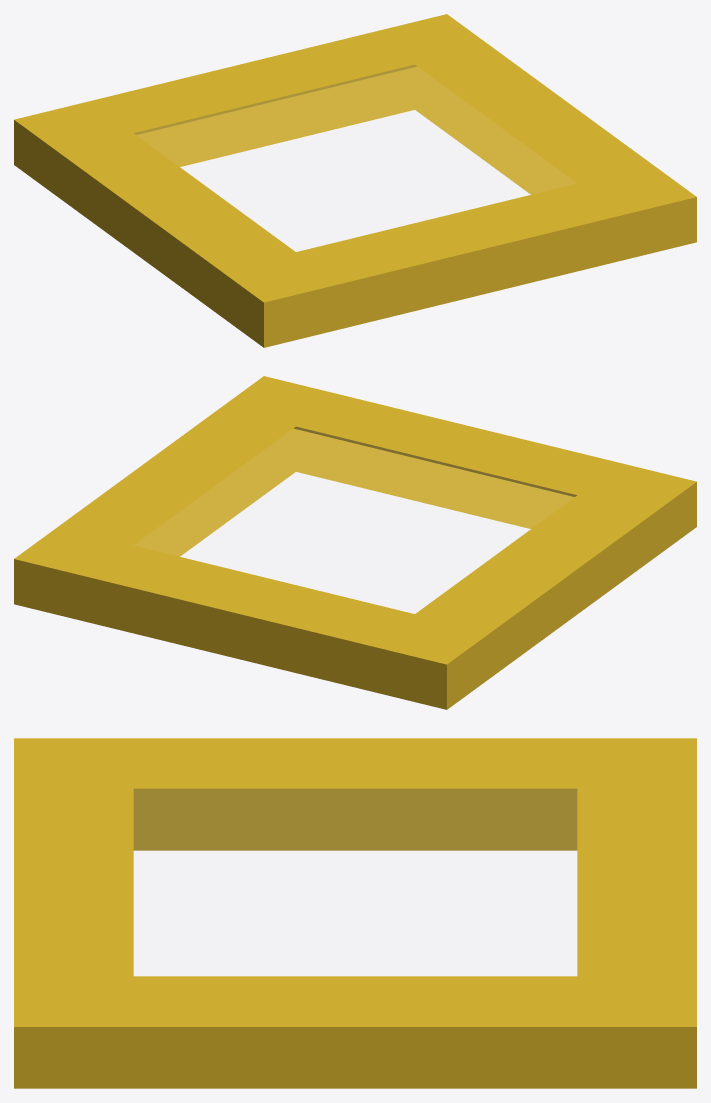
Rendered from Trampoline.fbx.
3 renders of one model, top to bottom at view 1: azimuth 30°, elevation 25°; view 2: azimuth 150°, elevation 25°; view 3: azimuth 270°, elevation 25°, orthographic. The views are drawn at different scales.
Visible parts, largest first — view 1: Cube; view 2: Cube; view 3: Cube.
Boxes of the visible parts, left/top/right/bottom form: Cube: left=14, top=14, right=696, bottom=347; Cube: left=14, top=376, right=696, bottom=709; Cube: left=14, top=738, right=696, bottom=1088.
Bounding box in the file's own units: 200 × 20 × 200.
